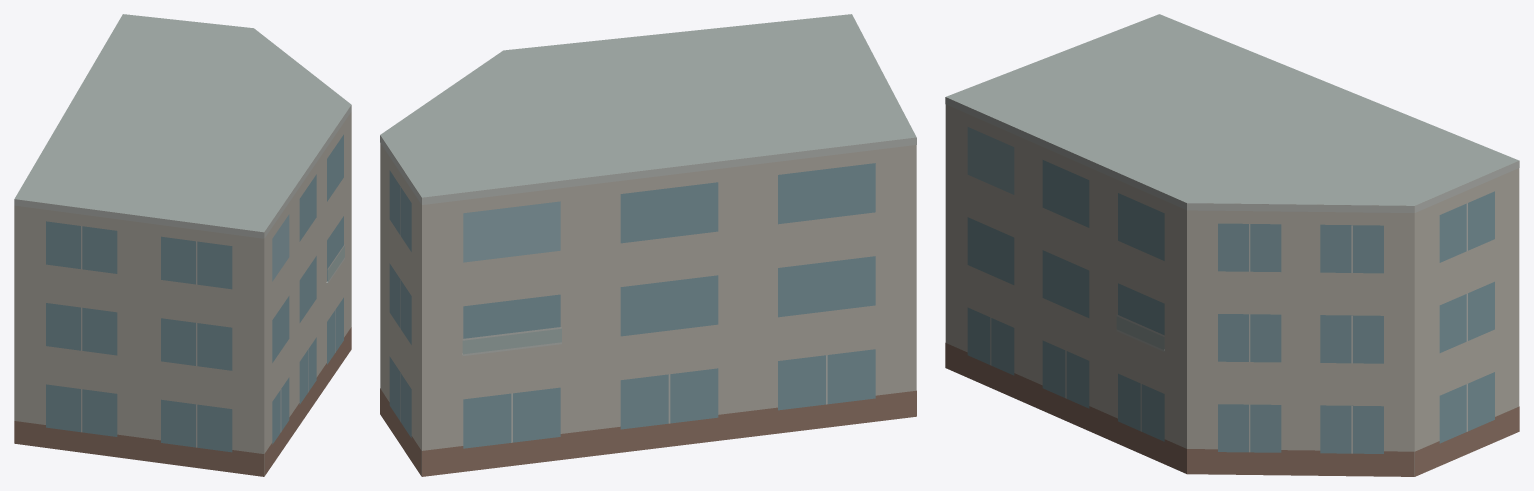
File: survey-upis-32874945.glb
The picture shows the model from 3 angles, left to right: view 1: azimuth 30°, elevation 25°; view 2: azimuth 150°, elevation 25°; view 3: azimuth 270°, elevation 25°; orthographic projection. The views are drawn at different scales.
Visible parts, largest first — view 1: survey-upis-32874945.tmp; view 2: survey-upis-32874945.tmp; view 3: survey-upis-32874945.tmp.
Part boxes in pixels (x1,y1,x2,y2): survey-upis-32874945.tmp: (14, 14, 351, 476); survey-upis-32874945.tmp: (380, 14, 916, 476); survey-upis-32874945.tmp: (945, 14, 1519, 476).
Bounding box in the file's own units: 13.9 × 9.15 × 17.57.
